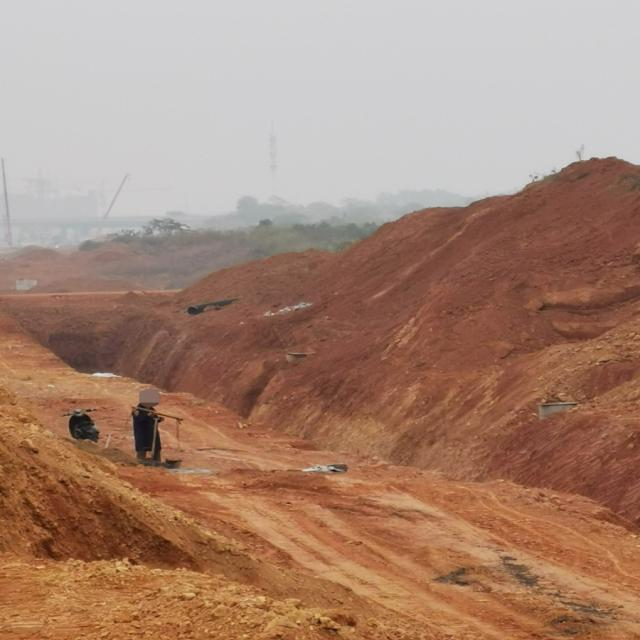crane: (93, 174, 130, 239), (0, 158, 17, 255)
